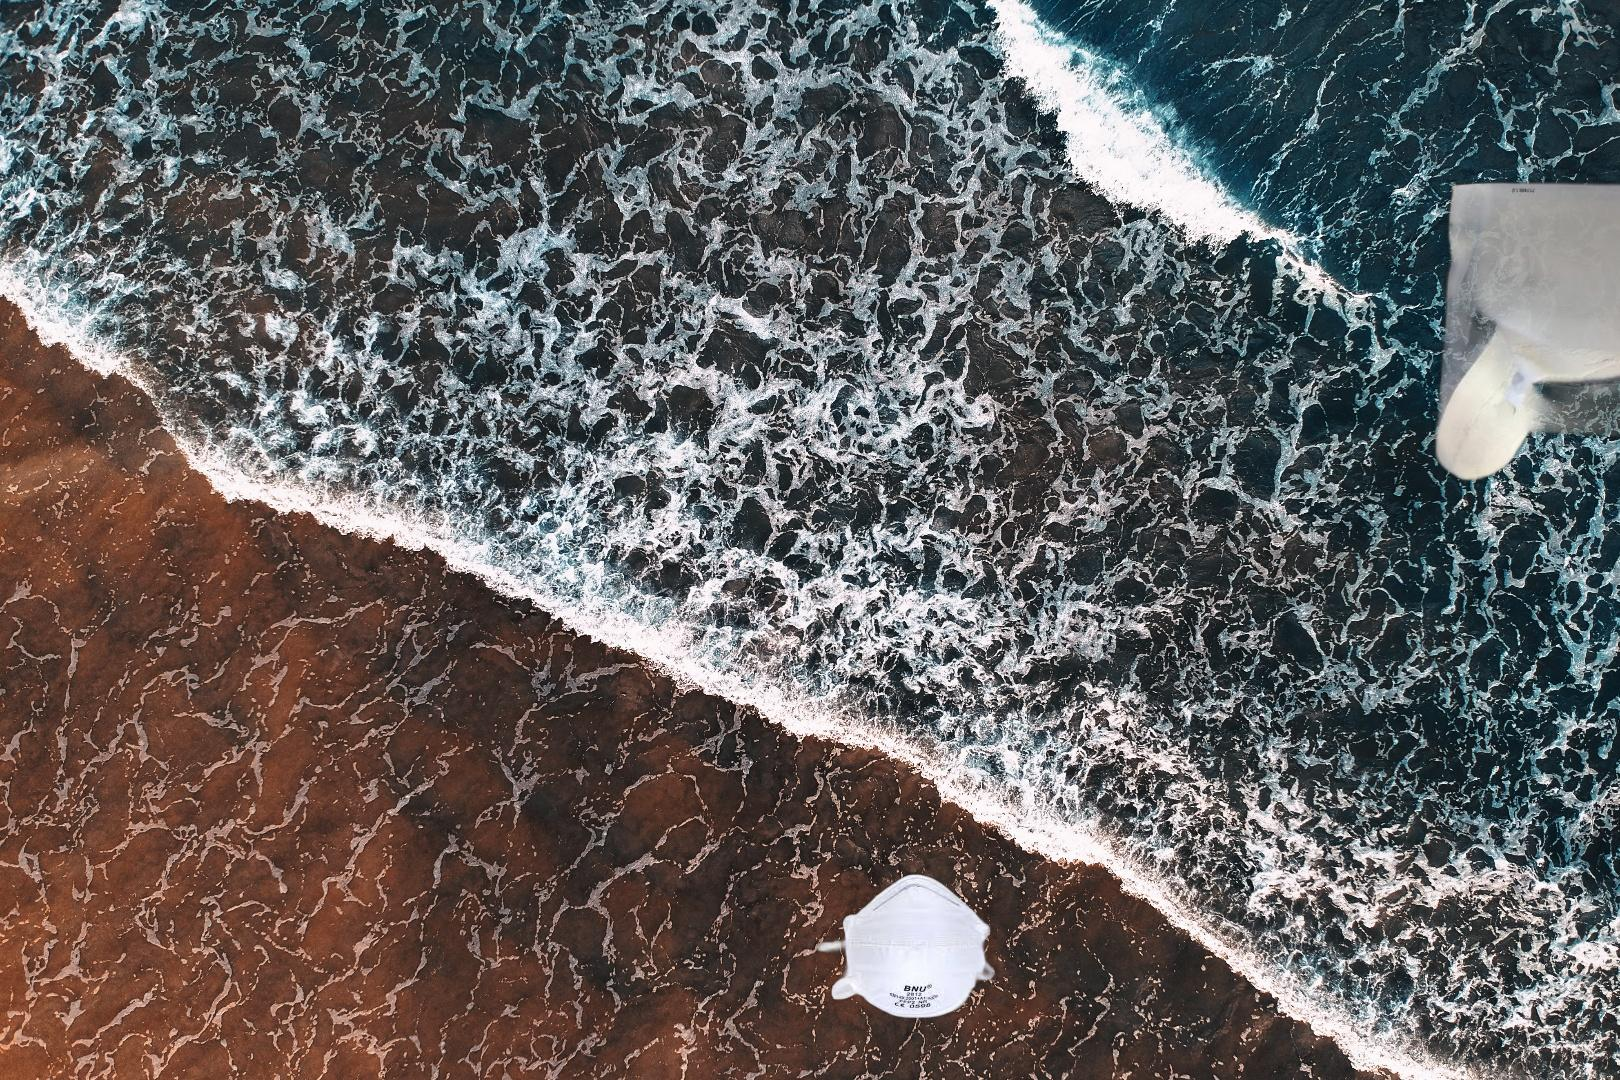paper: (1393, 176, 1620, 523)
trash: (812, 871, 1009, 1020)
